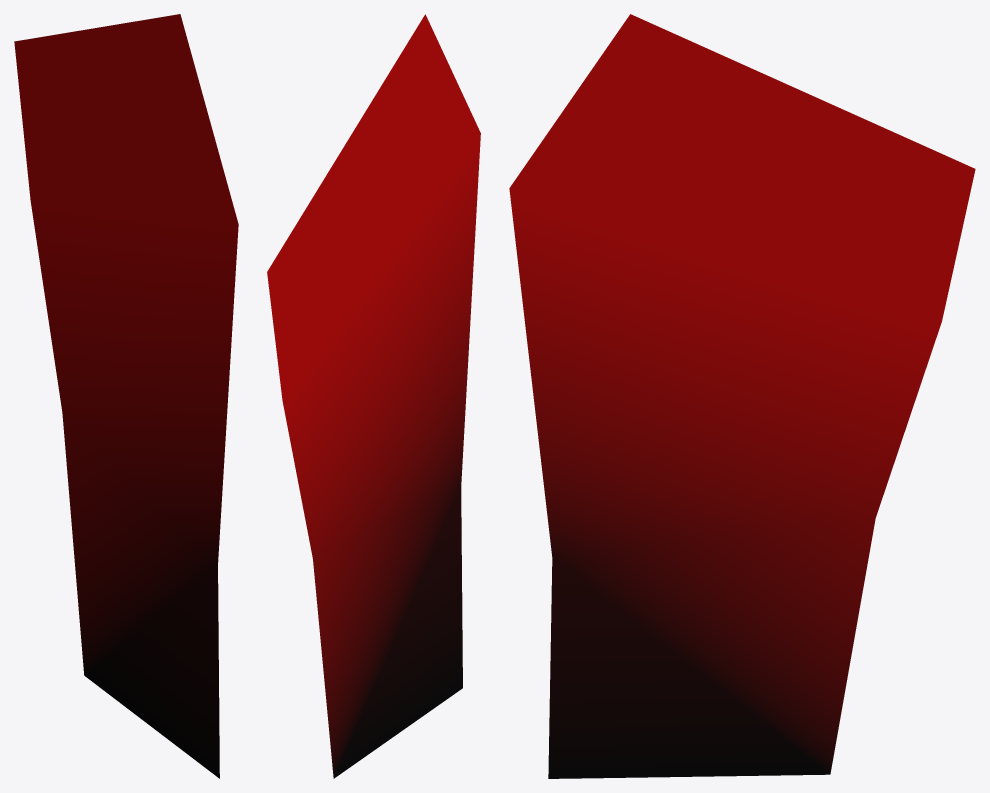
Rendered from grass4.fbx.
3 renders of one model, left to right at view 1: azimuth 30°, elevation 25°; view 2: azimuth 150°, elevation 25°; view 3: azimuth 270°, elevation 25°, orthographic. The views are drawn at different scales.
Visible parts, largest first — view 1: Plane; view 2: Plane; view 3: Plane.
Part boxes in pixels (x1,y1,x2,y2): Plane: [14, 14, 238, 778]; Plane: [267, 14, 480, 778]; Plane: [509, 14, 975, 778].
Bounding box in the file's own units: 3.83e-07 × 9.82 × 5.42.
